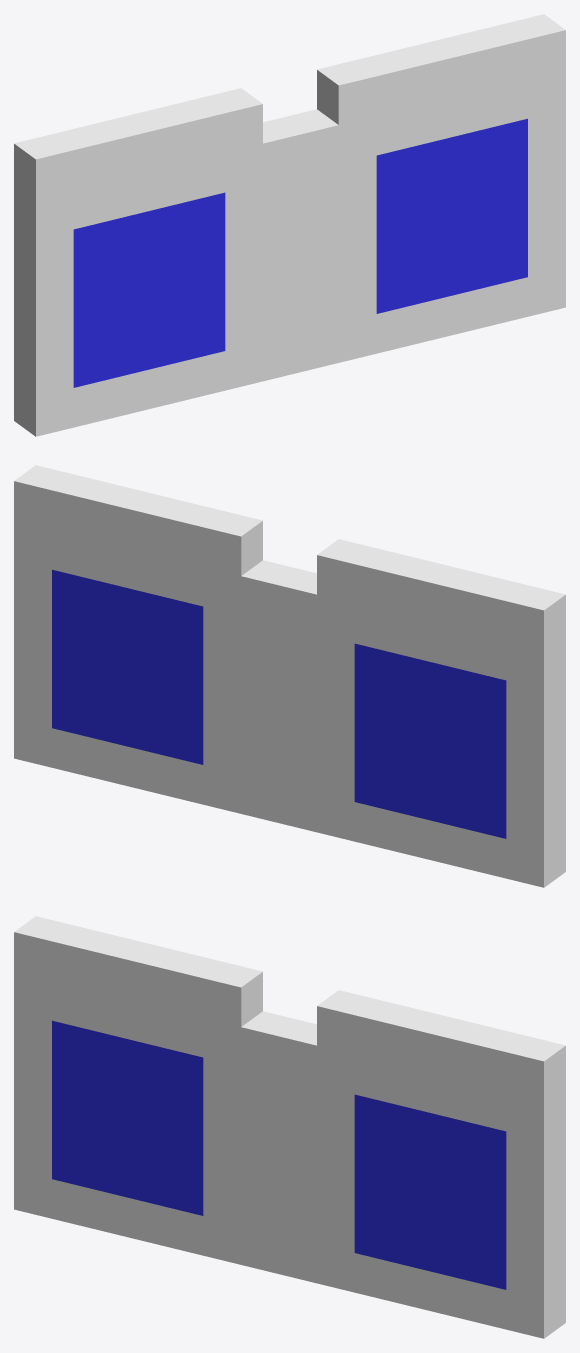
3 renders of one model, top to bottom at view 1: azimuth 30°, elevation 25°; view 2: azimuth 150°, elevation 25°; view 3: azimuth 330°, elevation 25°, orthographic.
Parts seen in each view (by area): view 1: eye-shapes076, eye-shapes045; view 2: eye-shapes076, eye-shapes045; view 3: eye-shapes076, eye-shapes045.
Boxes of the visible parts, bbox=[...] form: eye-shapes076: bbox=[14, 14, 565, 436]; eye-shapes045: bbox=[73, 118, 527, 387]; eye-shapes076: bbox=[14, 465, 565, 887]; eye-shapes045: bbox=[52, 569, 506, 838]; eye-shapes076: bbox=[14, 916, 565, 1338]; eye-shapes045: bbox=[52, 1020, 506, 1289].
Size of the model in its own units: 140 by 70 by 10.
Materials: 2 (2 with a texture image).
